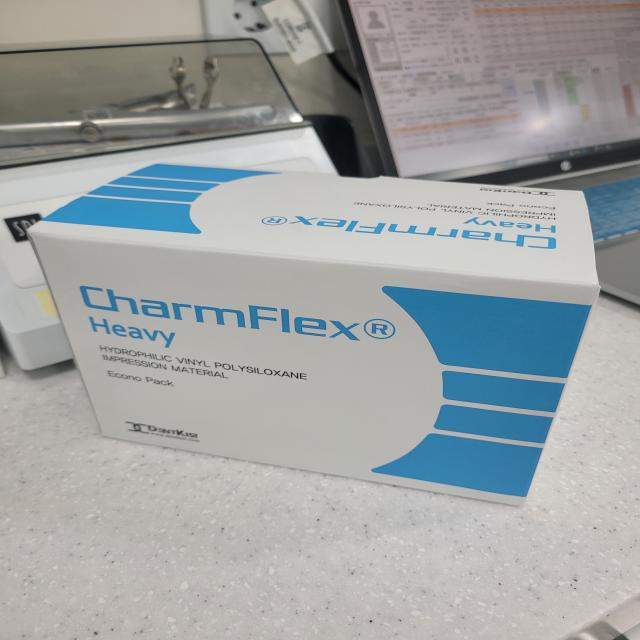impression: (12, 147, 604, 520)
